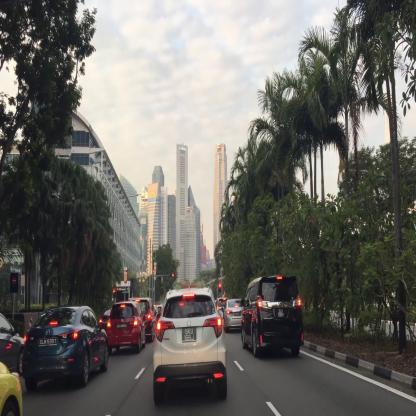red_traffic_light: (219, 283, 221, 292), (113, 290, 115, 298), (170, 274, 173, 276)
